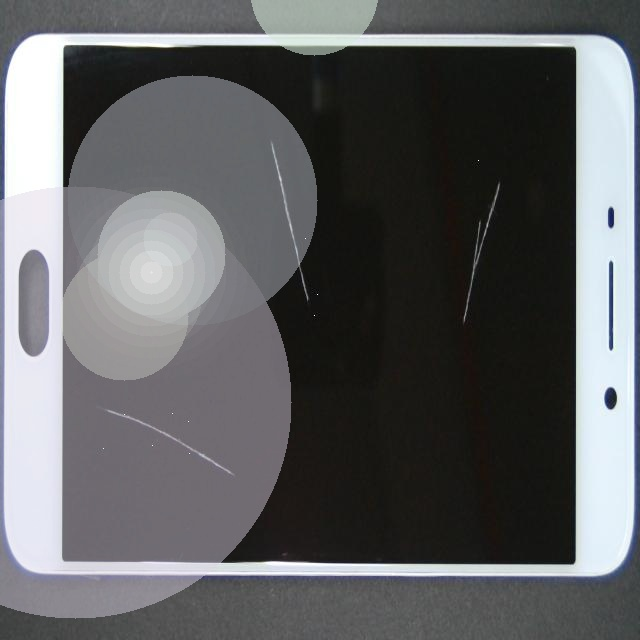scratch: (282, 22, 640, 294), (0, 182, 209, 640), (133, 59, 399, 229)
